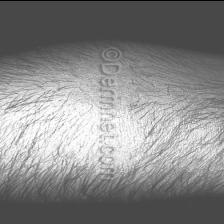Potentially Malignant Skin Tumors: (0, 88, 97, 162), (119, 109, 144, 169)
